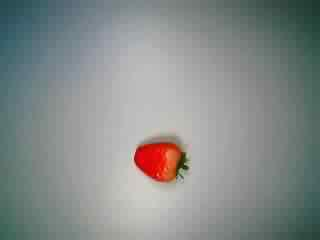strawberry: (125, 127, 193, 191)
